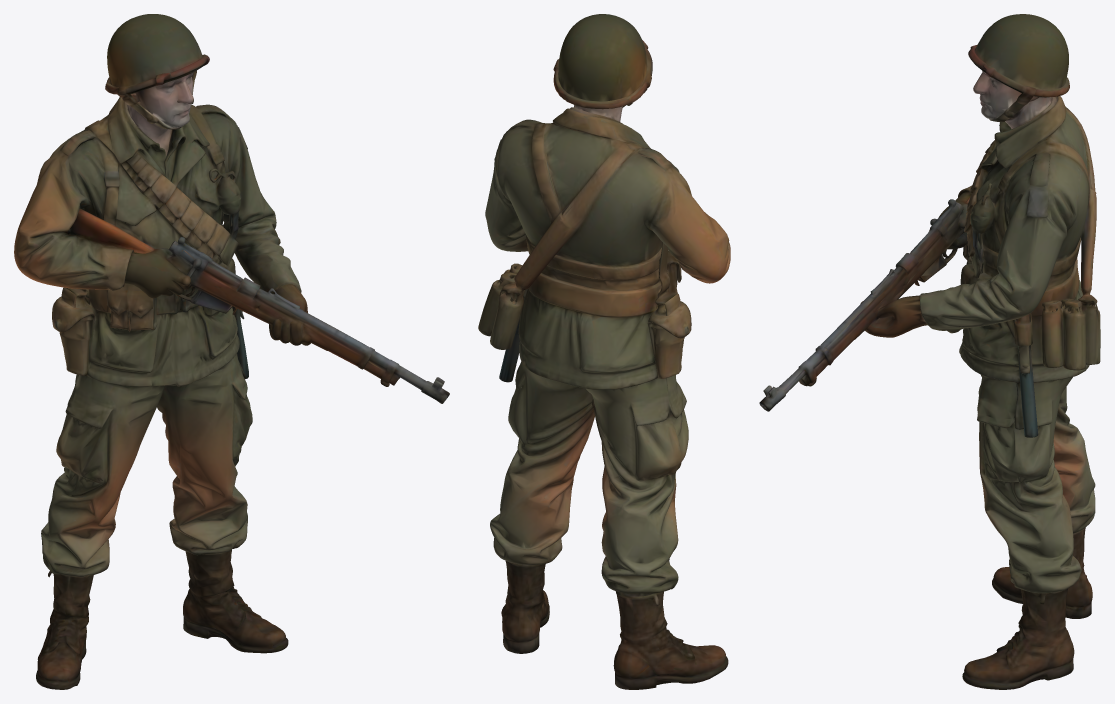
Rendered from char_enemy_rifle.glb.
3 views of the same model, side by side, from view 1: azimuth 30°, elevation 25°; view 2: azimuth 150°, elevation 25°; view 3: azimuth 270°, elevation 25° (orthographic). The views are drawn at different scales.
Visible parts, largest first — view 1: material; view 2: material; view 3: material.
Boxes of the visible parts, x1,y1,x2,y2 form: material: [14, 14, 449, 689]; material: [478, 14, 730, 689]; material: [759, 14, 1100, 689].
Size of the model in its own units: 0.5128 by 1.06 by 0.5286.
1 material, 1 textured.
